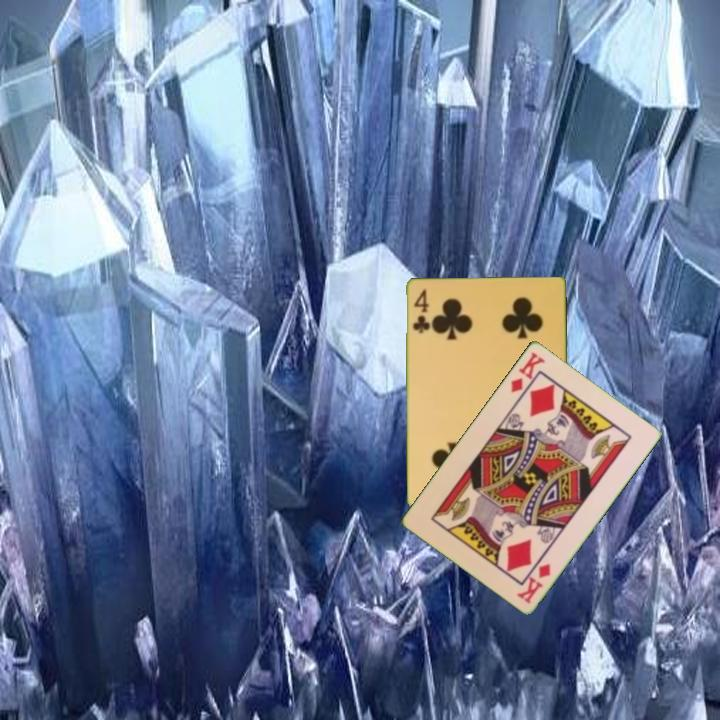4c: (410, 285, 431, 336)
Kd: (507, 348, 548, 395), (514, 559, 553, 606)
